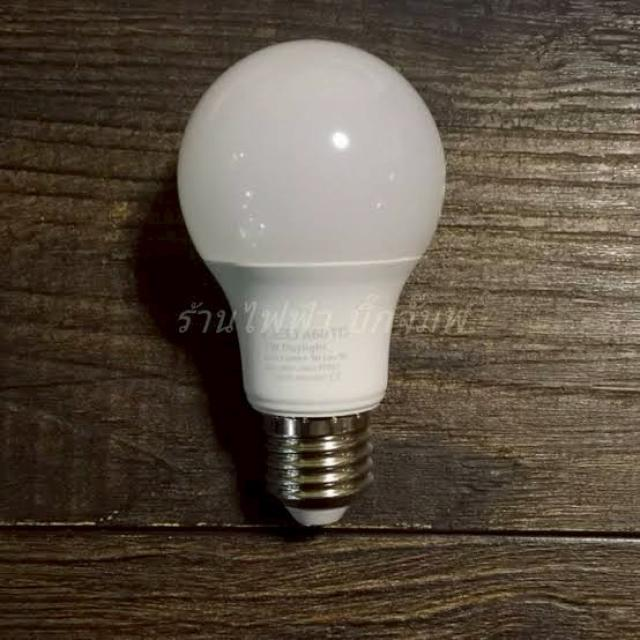bulb: (177, 36, 436, 534)
